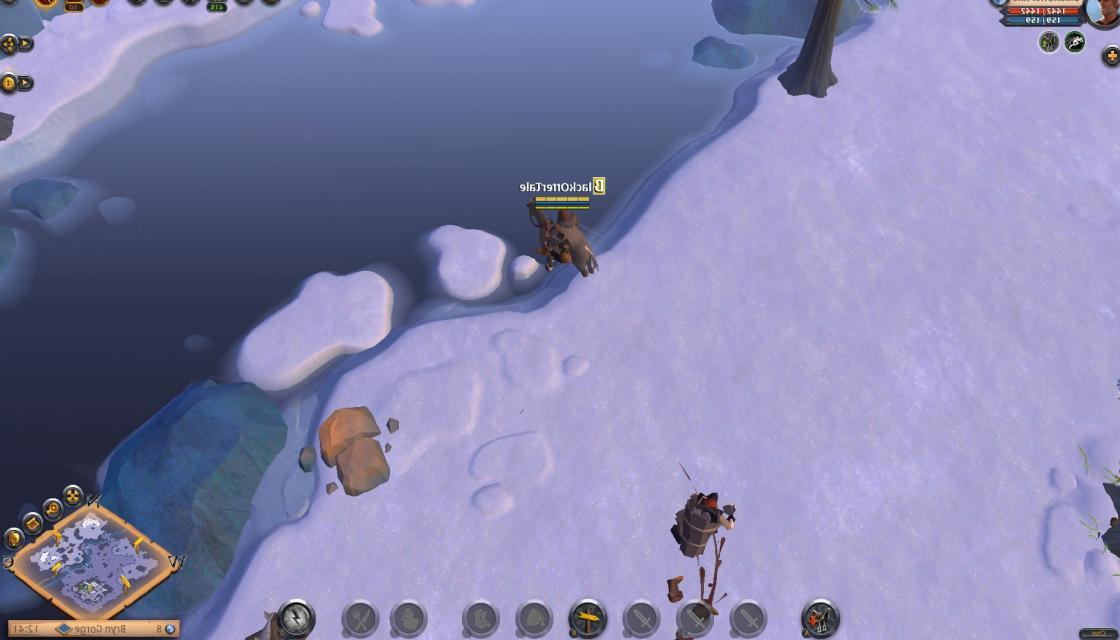limestone: (318, 402, 407, 496)
